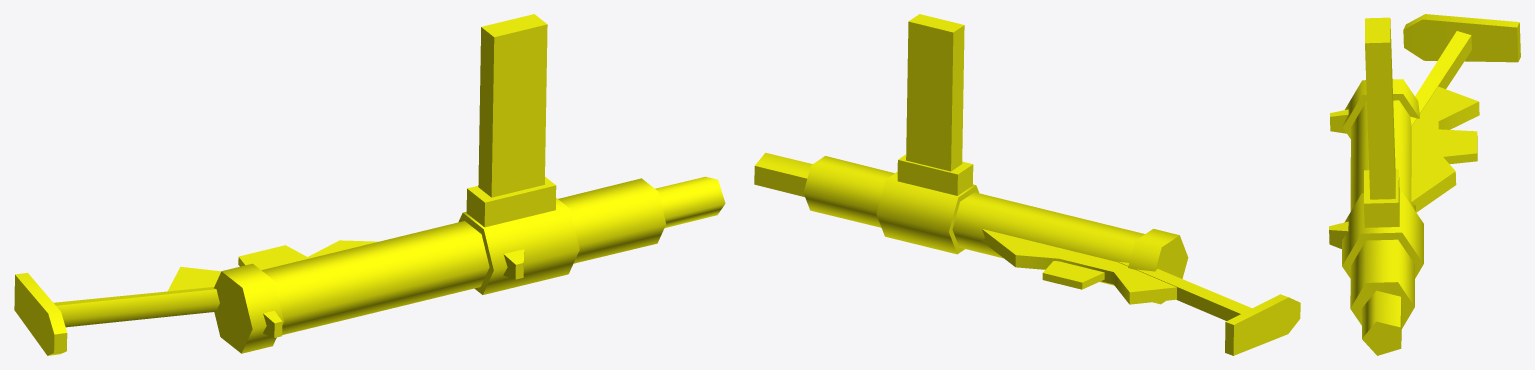
Rendered from weapon_sten.glb.
3 views of the same model, side by side, from view 1: azimuth 30°, elevation 25°; view 2: azimuth 150°, elevation 25°; view 3: azimuth 270°, elevation 25° (orthographic). The views are drawn at different scales.
Visible parts, largest first — view 1: weapon_sten; view 2: weapon_sten; view 3: weapon_sten.
Boxes of the visible parts, x1,y1,x2,y2 form: weapon_sten: [14, 14, 725, 355]; weapon_sten: [754, 14, 1300, 355]; weapon_sten: [1329, 14, 1520, 355].
Bounding box in the file's own units: 1.34 × 0.5058 × 0.3579.
Materials: 1 (1 with a texture image).
